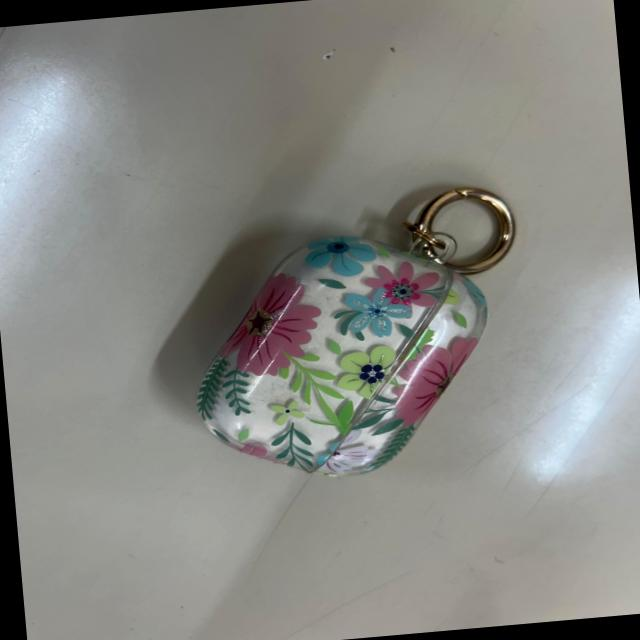inorganic: (180, 184, 534, 489)
